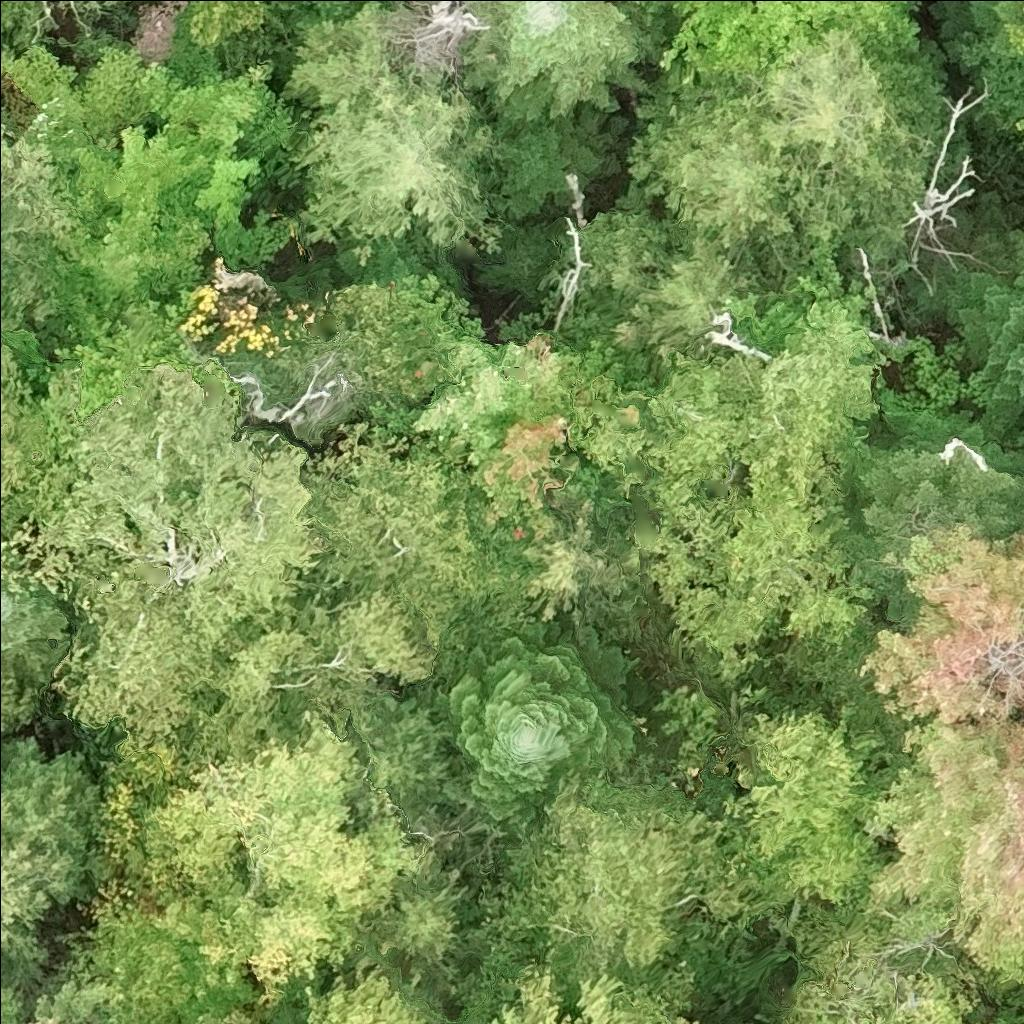crown: (0, 363, 326, 746), (140, 708, 456, 999), (493, 758, 789, 1001), (282, 0, 508, 266), (301, 422, 541, 668), (1, 46, 267, 229), (414, 620, 639, 825), (759, 22, 948, 260), (649, 486, 875, 682), (868, 713, 1023, 987), (197, 585, 434, 756), (42, 112, 214, 337), (719, 696, 900, 908), (625, 50, 806, 247), (737, 271, 881, 506), (859, 526, 1023, 727), (416, 332, 587, 522), (62, 872, 259, 1023), (783, 895, 1001, 1023), (452, 0, 667, 121), (0, 737, 102, 982), (636, 349, 750, 515), (657, 0, 923, 70), (486, 101, 631, 220), (339, 684, 457, 827), (490, 957, 705, 1023), (941, 259, 1023, 422), (518, 498, 626, 620), (0, 117, 80, 278), (55, 307, 164, 415), (304, 960, 447, 1023), (925, 0, 1023, 71), (0, 576, 74, 664), (0, 971, 119, 1023), (0, 339, 38, 500), (450, 1009, 499, 1023), (1002, 21, 1023, 52), (316, 0, 347, 13), (1015, 114, 1023, 137)
